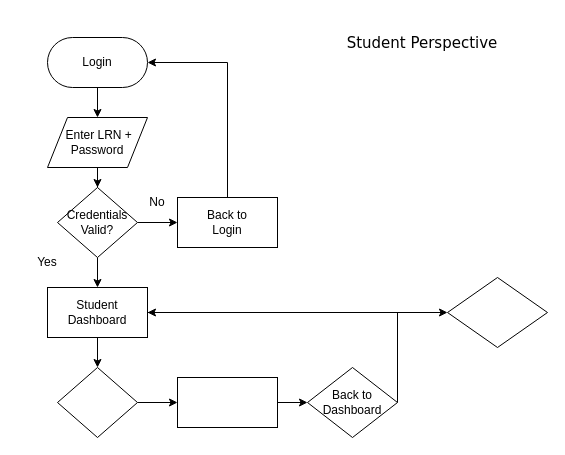
This 565x455 diagram has some shape labels left out. The box of each missing label's shape, as (x1, y1, x2, y2) in pixels:
Show all books: (176, 376, 278, 428)
View available books?: (446, 276, 548, 348)
View Catalog: (56, 366, 138, 438)
